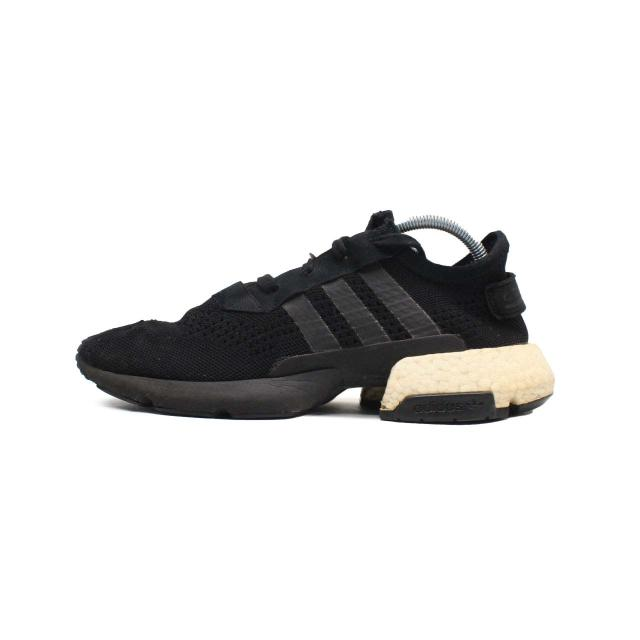heel: (469, 230, 528, 346)
midsole: (78, 342, 554, 424)
uppersole: (82, 210, 471, 381)
